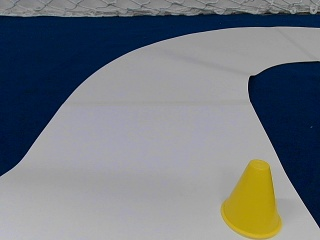cone: (223, 161, 283, 236)
